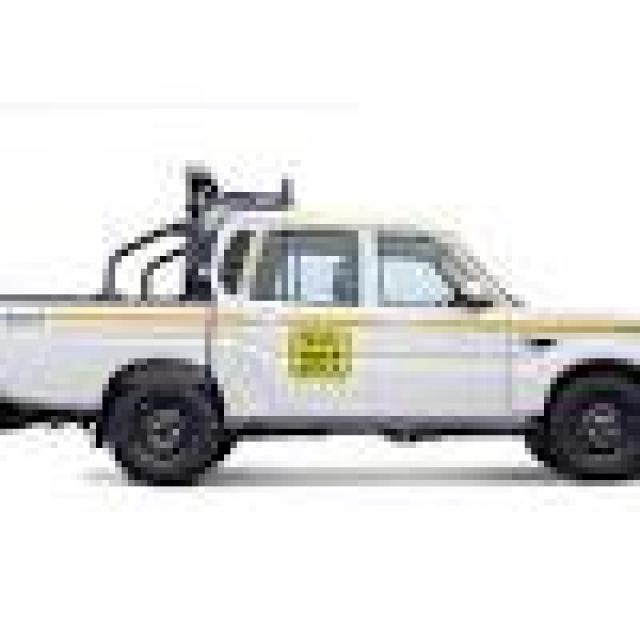light_vehicle: (0, 167, 634, 506)
